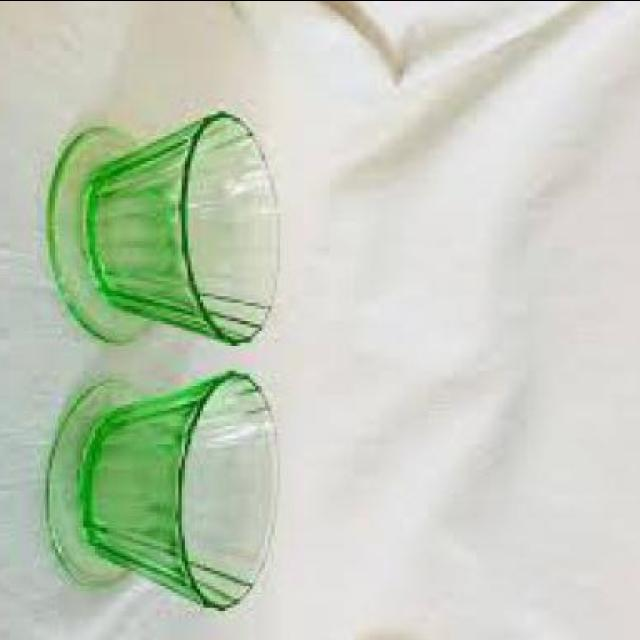kaca: (49, 372, 284, 612), (52, 110, 284, 348)
